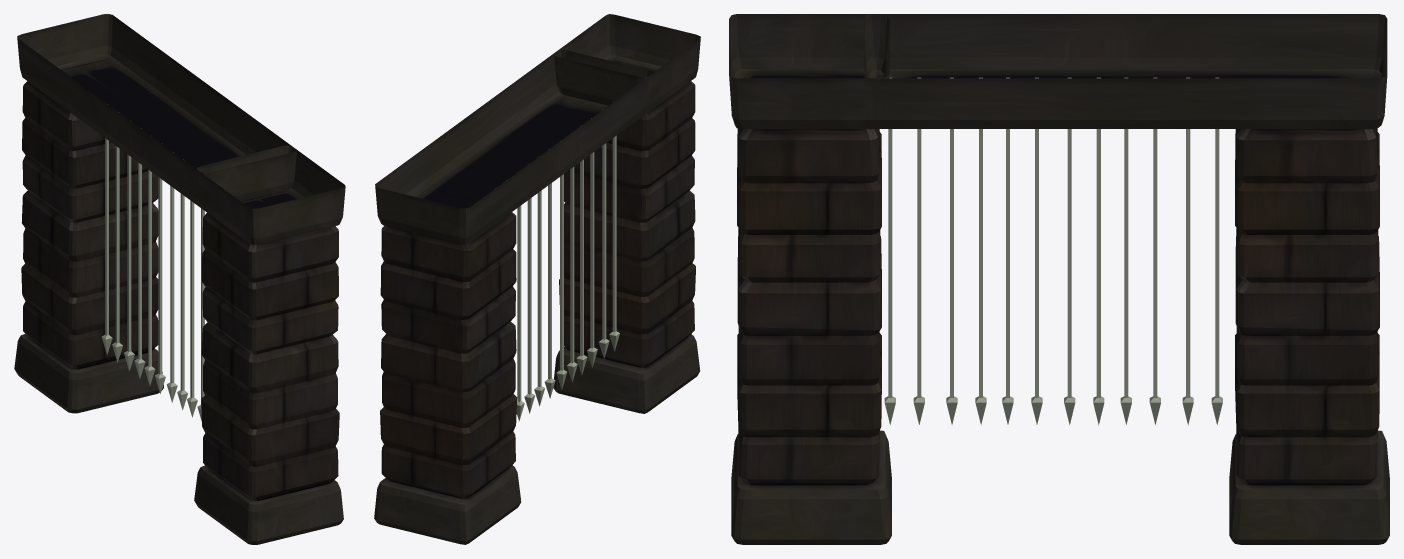
File: Door.fbx
The picture shows the model from 3 angles, left to right: view 1: azimuth 30°, elevation 25°; view 2: azimuth 150°, elevation 25°; view 3: azimuth 270°, elevation 25°; orthographic projection. The views are drawn at different scales.
Parts seen in each view (by area): view 1: column01, column01.001, Cube; view 2: column01, column01.001, Cube; view 3: column01, column01.001, Cube.
Boxes of the visible parts, x1,y1,x2,y2 form: column01: [14, 14, 296, 413]; column01.001: [194, 145, 345, 544]; Cube: [101, 128, 204, 421]; column01: [374, 49, 652, 544]; column01.001: [553, 14, 700, 413]; Cube: [495, 118, 619, 421]; column01: [864, 14, 1389, 544]; column01.001: [729, 14, 891, 544]; Cube: [884, 77, 1222, 425].
Size of the model in its own units: 90.52 by 305 by 390.
